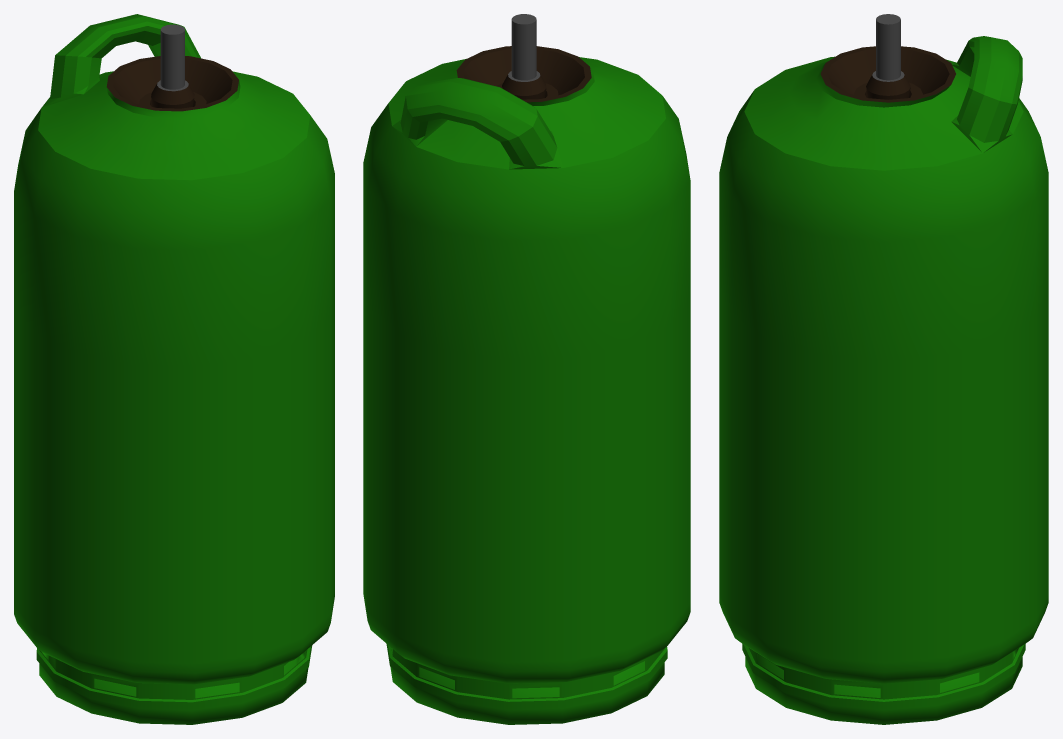
Rendered from gas2.glb.
The picture shows the model from 3 angles, left to right: view 1: azimuth 30°, elevation 25°; view 2: azimuth 150°, elevation 25°; view 3: azimuth 270°, elevation 25°; orthographic projection.
Parts seen in each view (by area): view 1: Gas2; view 2: Gas2; view 3: Gas2.
Boxes of the visible parts, left/top/right/bottom form: Gas2: left=14, top=14, right=334, bottom=724; Gas2: left=363, top=14, right=690, bottom=724; Gas2: left=719, top=14, right=1048, bottom=724.
Bounding box in the file's own units: 1.78 × 3.85 × 1.78.
